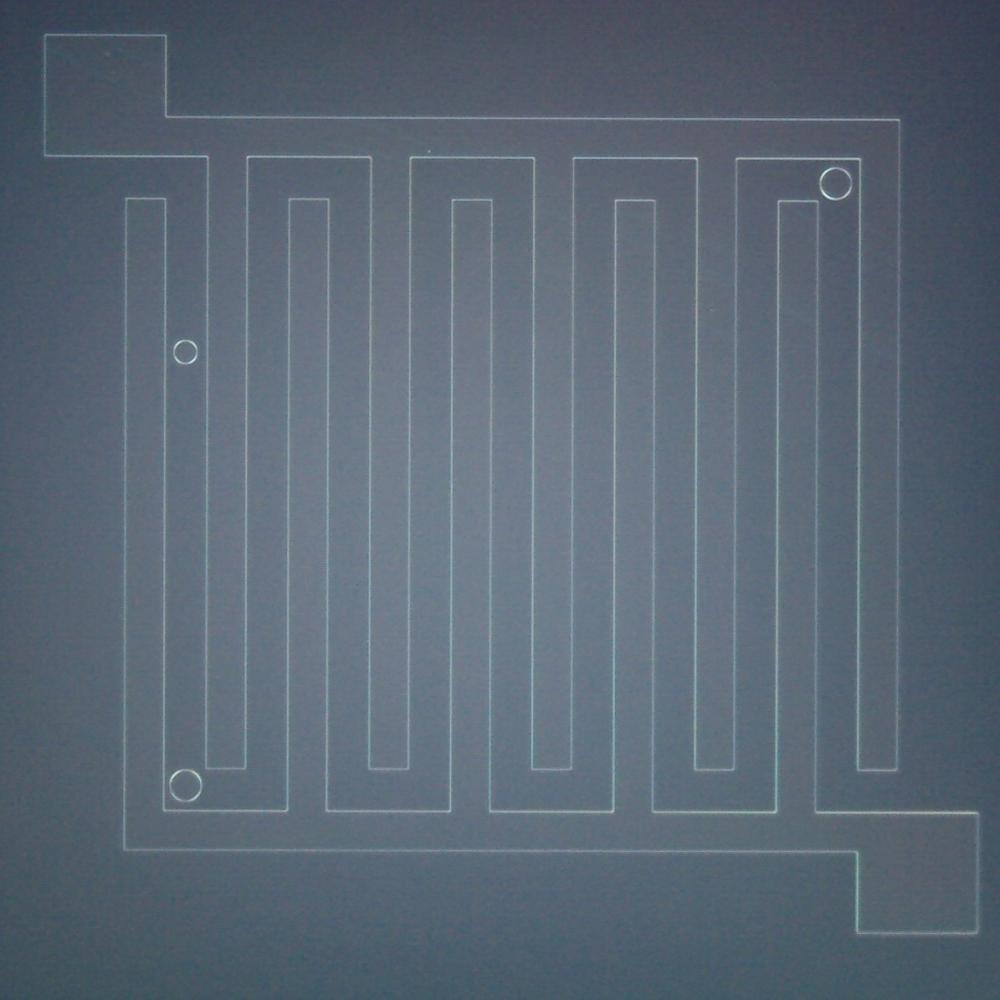circle: (166, 766, 206, 806), (818, 164, 856, 202), (170, 336, 202, 368)
